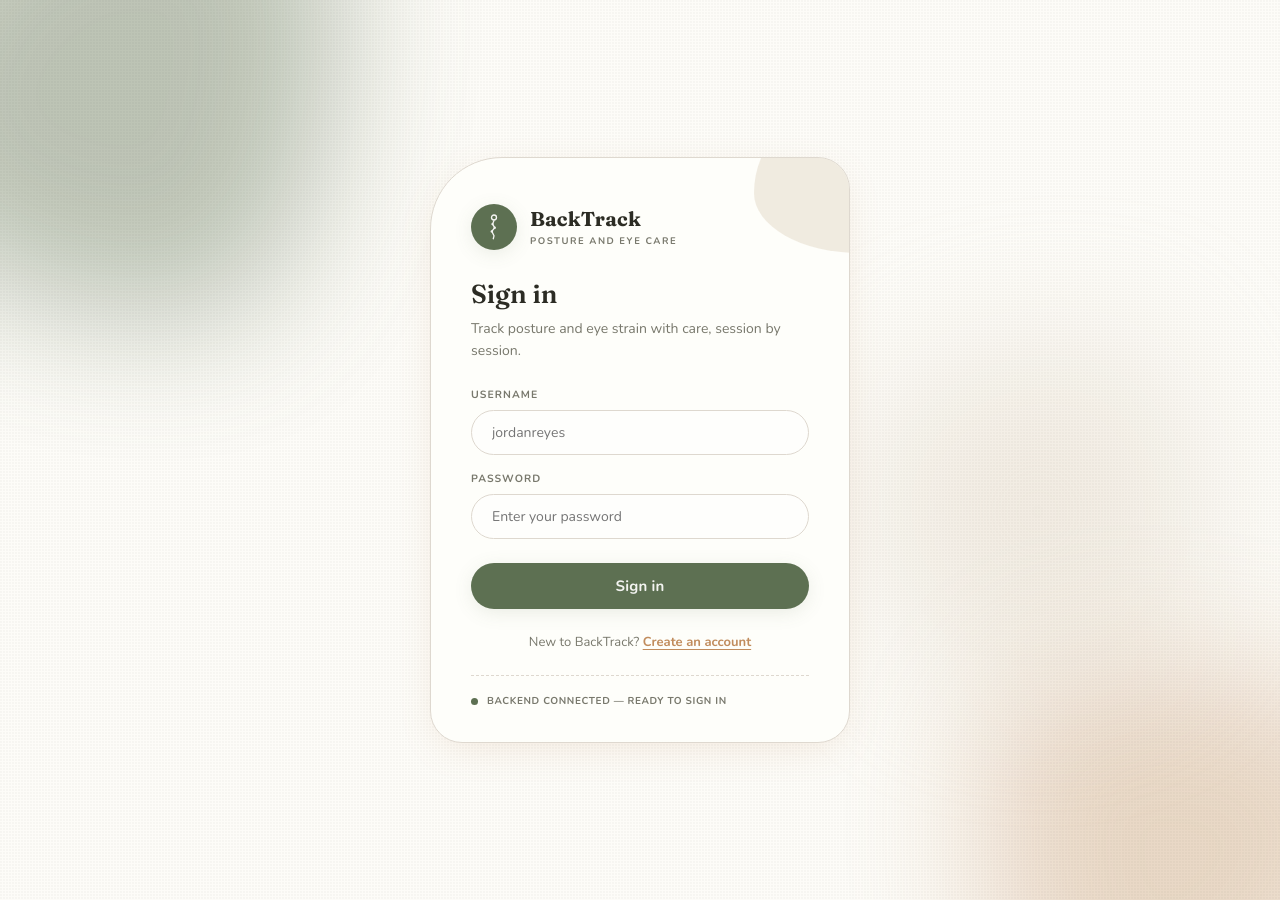
App › shows the backend's error when sign-in fails
In the field labelled "Username": point(640, 433) [471,410,809,455], type "jordan"
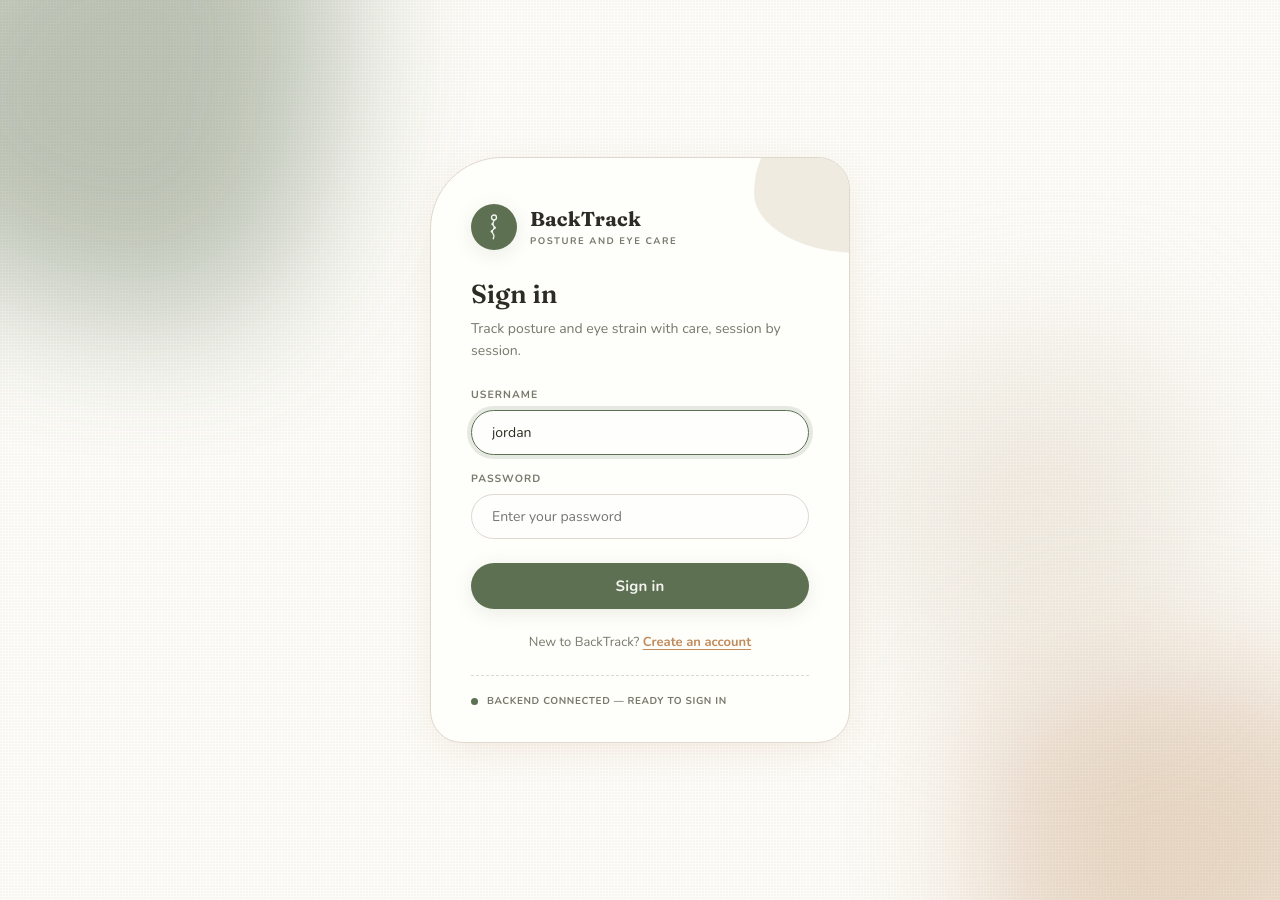
In the password field labelled "Password": point(640, 517) [471,494,809,539], type "wrong!!"
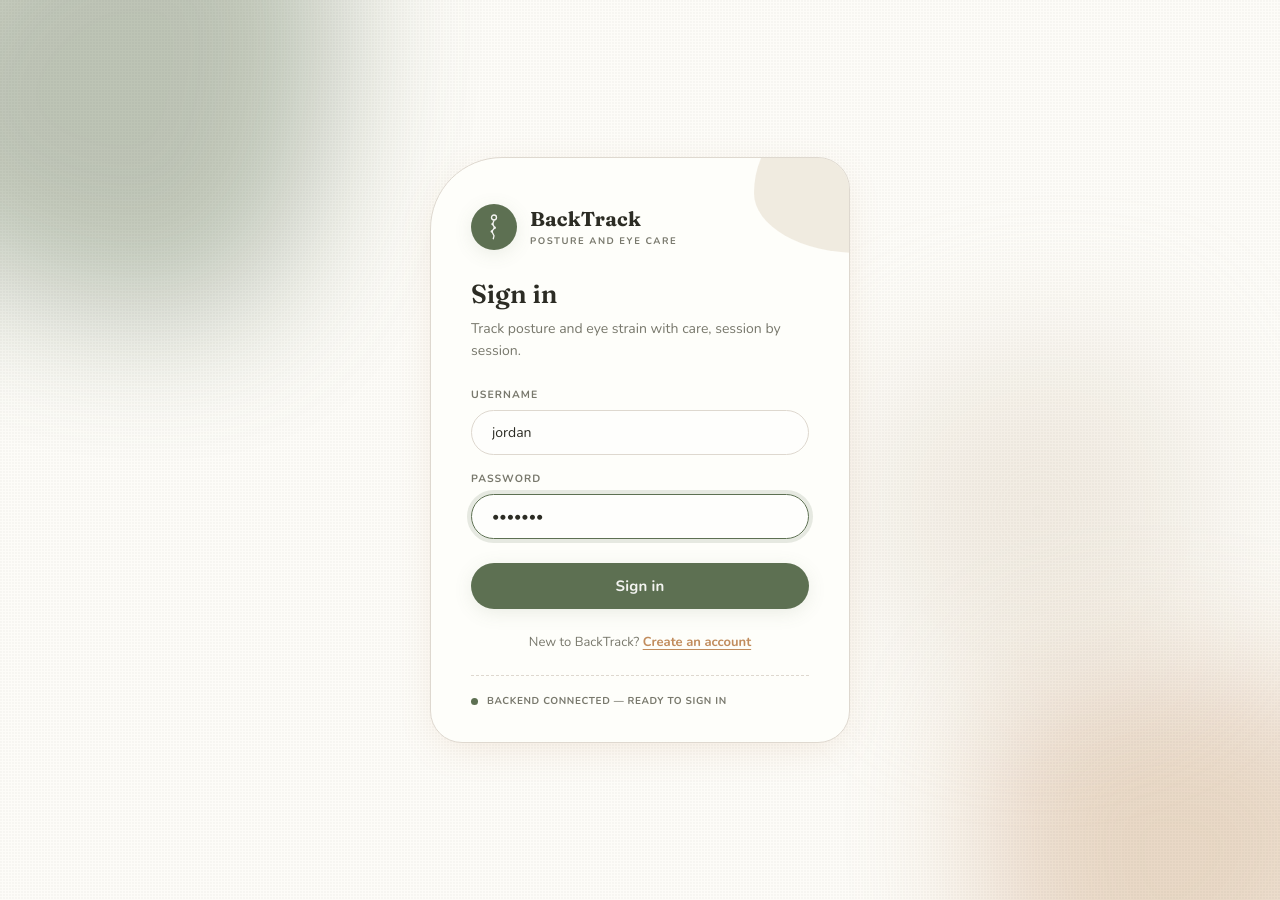
Click the button "Sign in": point(640, 586) [471,563,809,609]
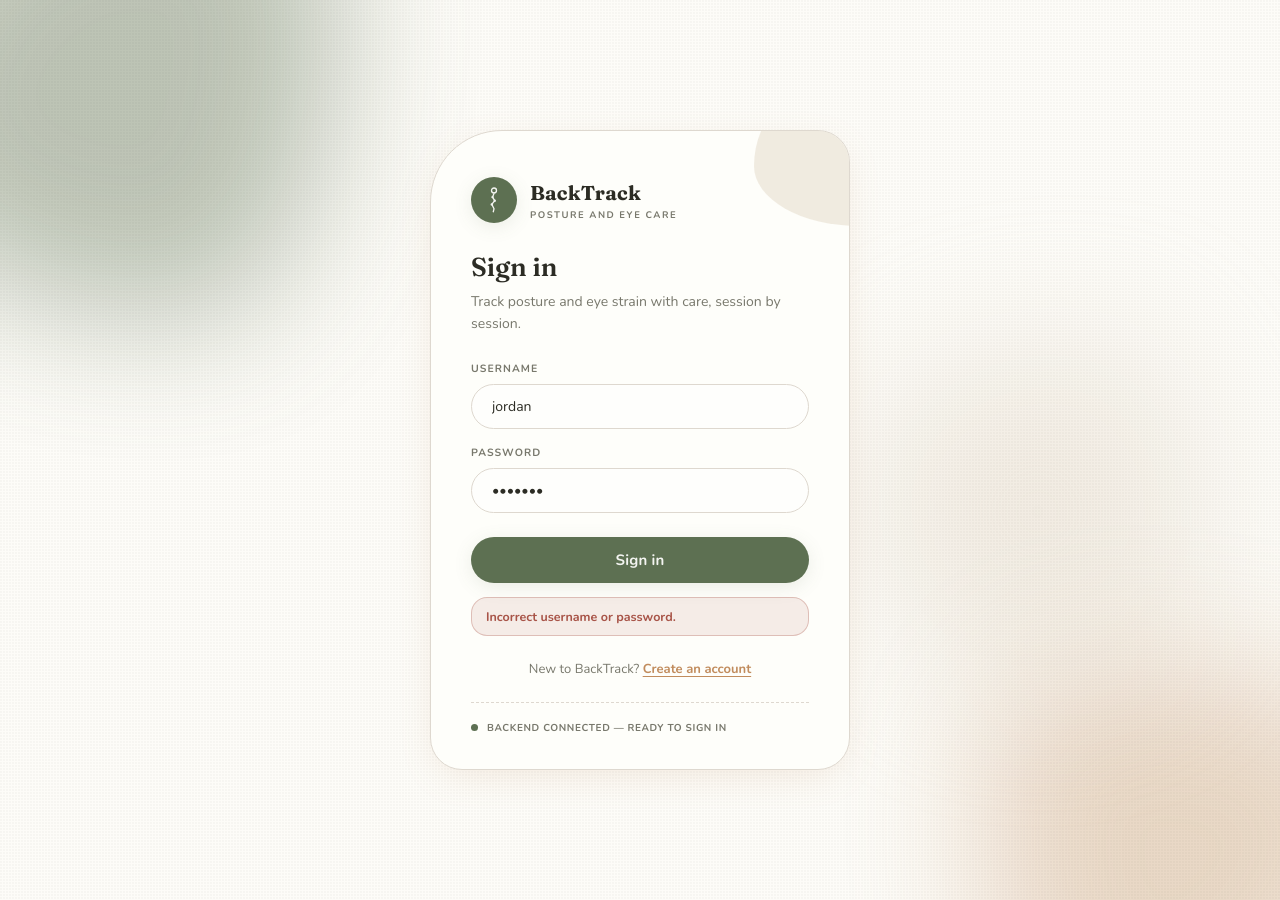
Expected: the message reads "Incorrect username or password.", [486,608,676,625]
